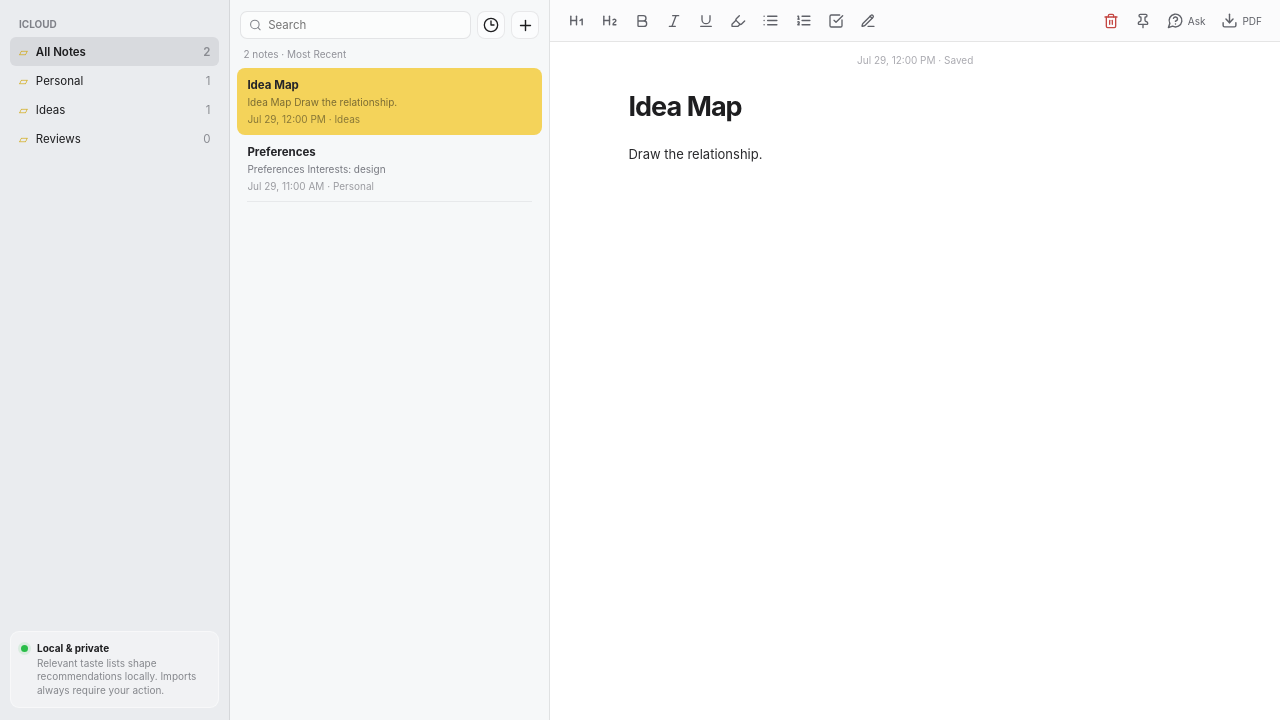
Test: Notes rich-text editor › requires confirmation to delete a note and protects Preferences
Click the button named "Delete Idea Map": coordinates (1111, 20) [1096,6,1126,34]
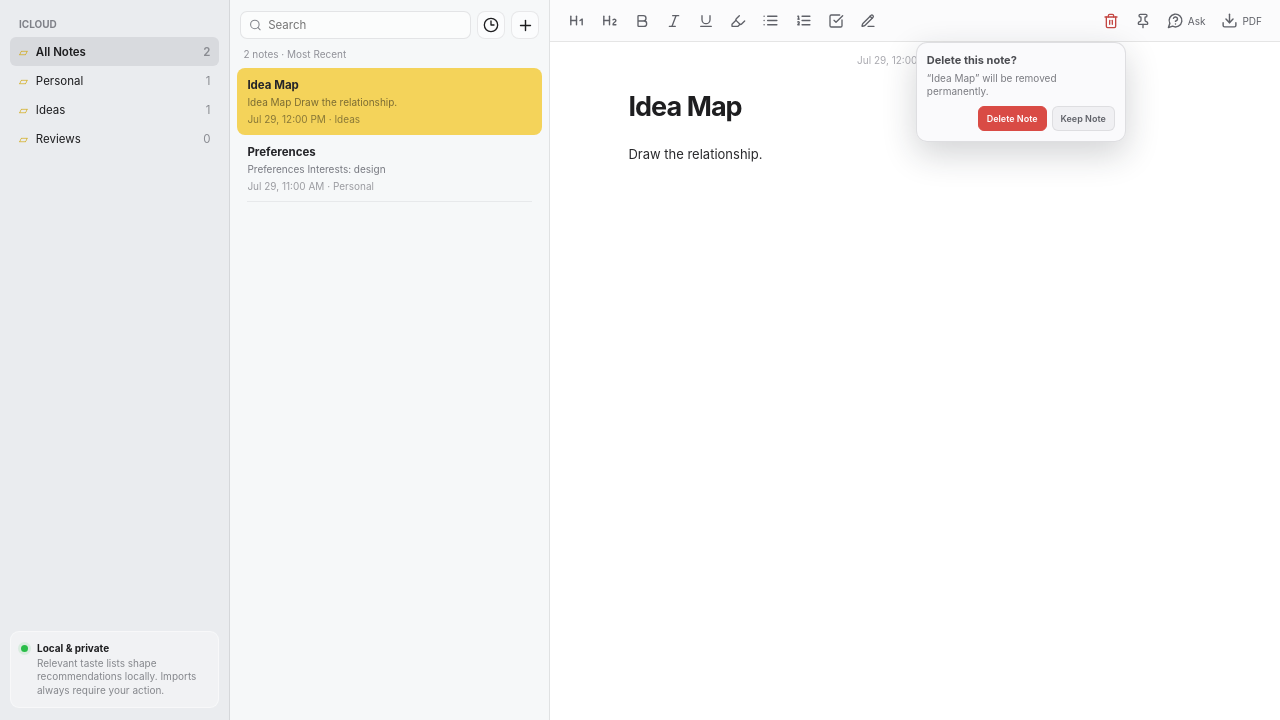
Result: the dialog named "Delete Idea Map?" is shown at [916,42,1126,142]
Click the button "Keep Note": coordinates (1083, 118) [1052,106,1115,130]
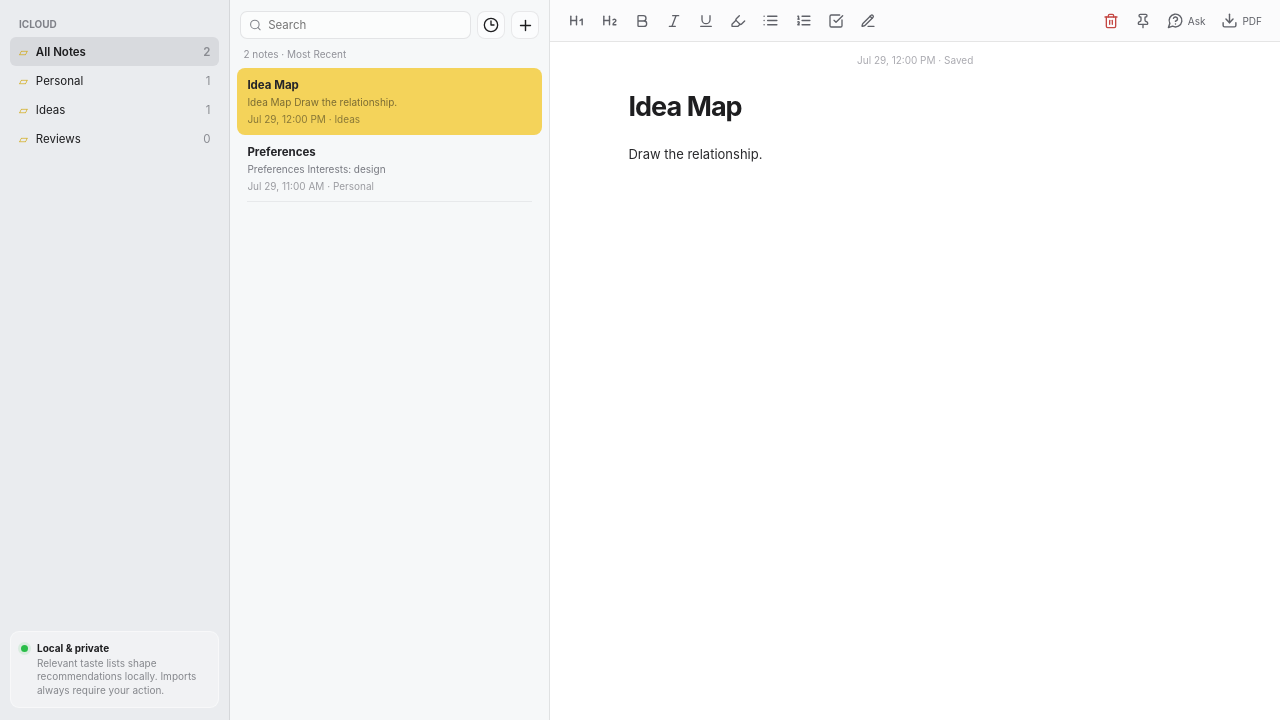
Expected: the text box named "Edit Idea Map" is shown, [628,90,762,162]
Click the button named "Delete Idea Map": coordinates (1111, 20) [1096,6,1126,34]
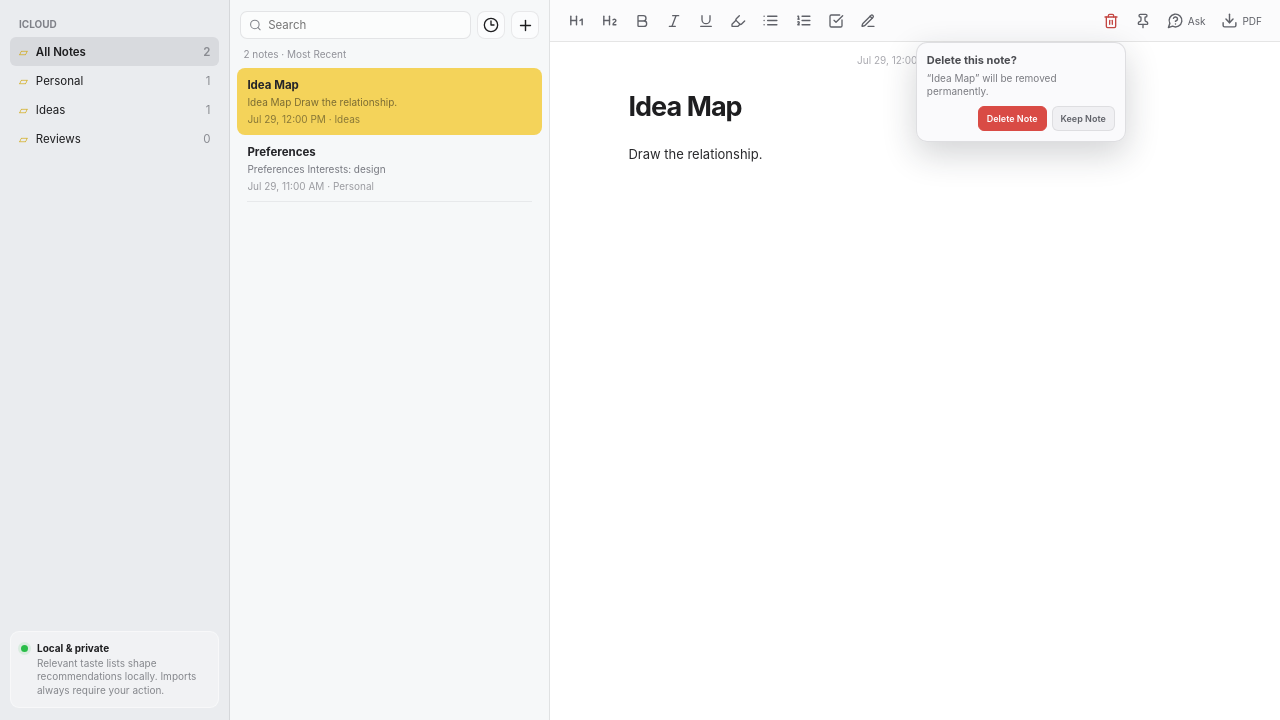
Click the button "Delete Note": coordinates (1012, 118) [978,106,1047,130]
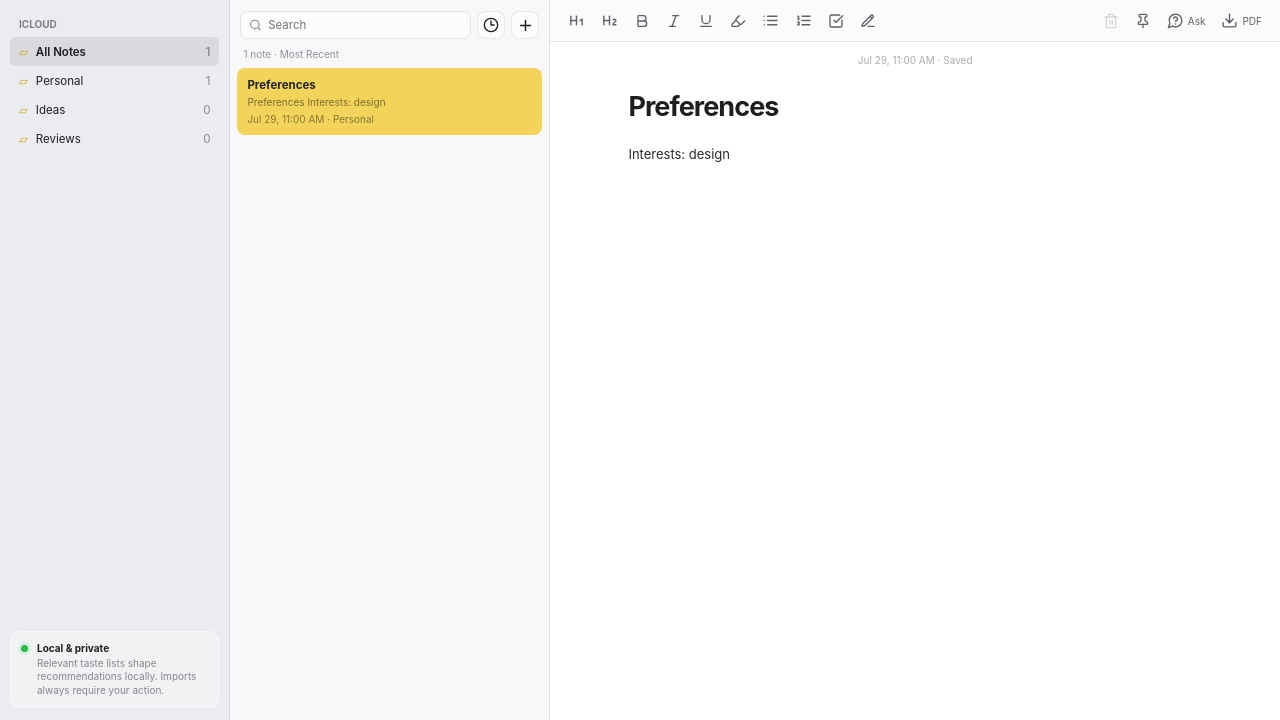
Result: the text box named "Edit Preferences" is shown at [628,90,778,162]
Result: the button named "Preferences note cannot be deleted" is disabled at [1096,6,1126,34]
